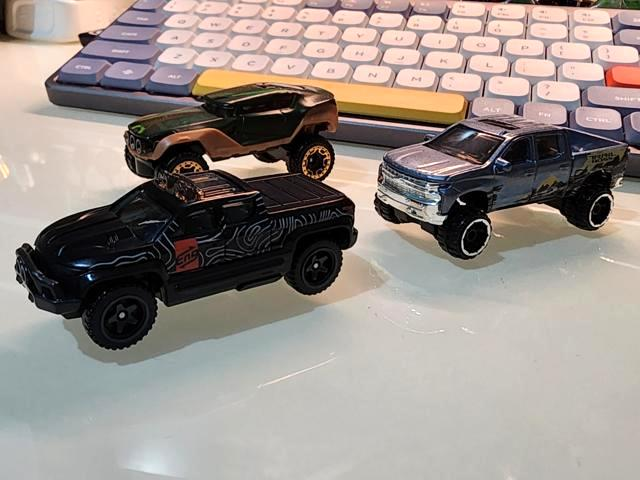toy-car: (15, 168, 360, 350), (374, 113, 631, 261), (122, 81, 338, 182)
